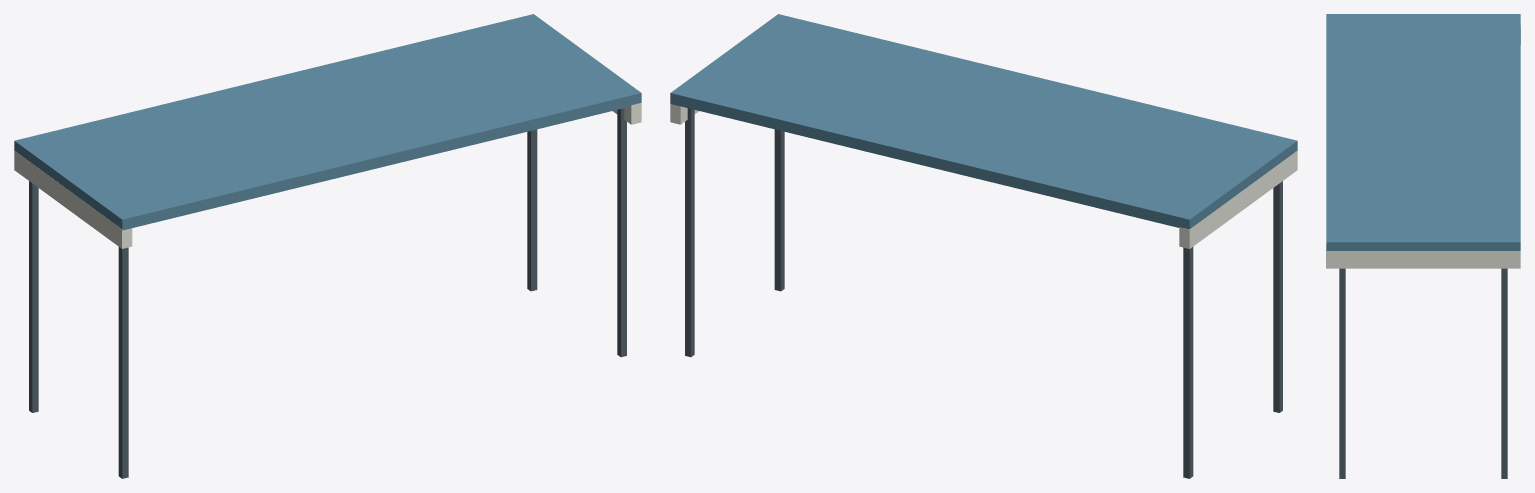
Rendered from american-football-stadium-kit-bench-canopy-c68b6c96__22337.glb.
The picture shows the model from 3 angles, left to right: view 1: azimuth 30°, elevation 25°; view 2: azimuth 150°, elevation 25°; view 3: azimuth 270°, elevation 25°; orthographic projection. The views are drawn at different scales.
Parts seen in each view (by area): view 1: bench-canopy; view 2: bench-canopy; view 3: bench-canopy.
Boxes of the visible parts, bbox=[...] form: bench-canopy: bbox=[14, 14, 641, 478]; bench-canopy: bbox=[670, 14, 1297, 478]; bench-canopy: bbox=[1326, 14, 1520, 478].
Size of the model in its own units: 5 by 2.45 by 1.8.
